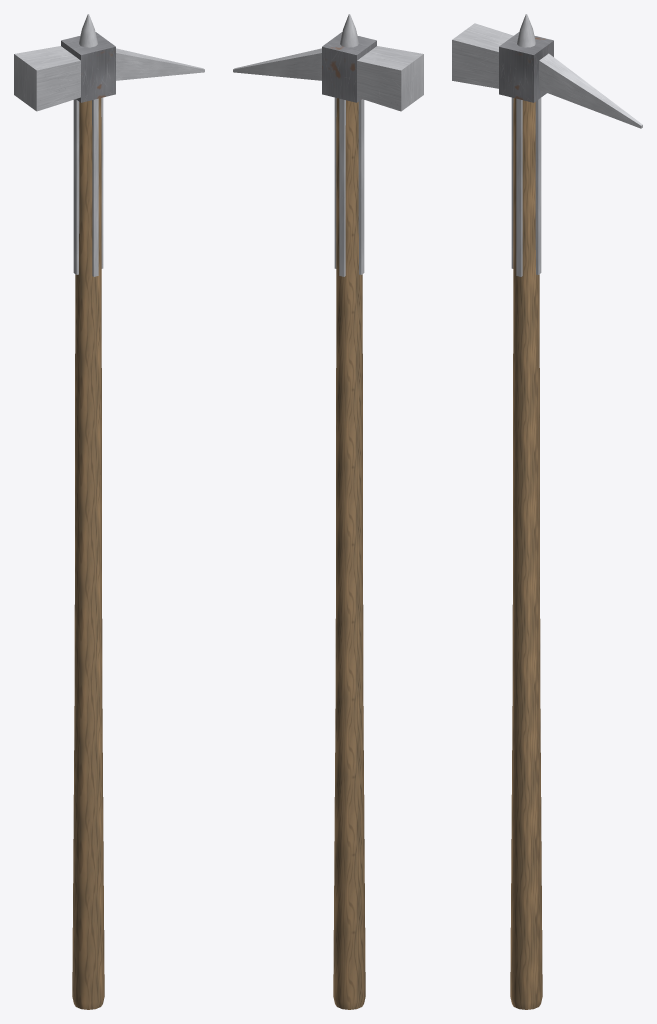
Rendered from warhammer.glb.
3 views of the same model, side by side, from view 1: azimuth 30°, elevation 25°; view 2: azimuth 150°, elevation 25°; view 3: azimuth 330°, elevation 25° (orthographic).
Parts seen in each view (by area): view 1: OUT; view 2: OUT; view 3: OUT.
Boxes of the visible parts, x1=… form: OUT: x1=14, y1=14, x2=204, y2=1009; OUT: x1=233, y1=14, x2=423, y2=1009; OUT: x1=452, y1=14, x2=642, y2=1009.
Size of the model in its own units: 0.255 by 1.35 by 0.056.
3 materials, 3 textured.
